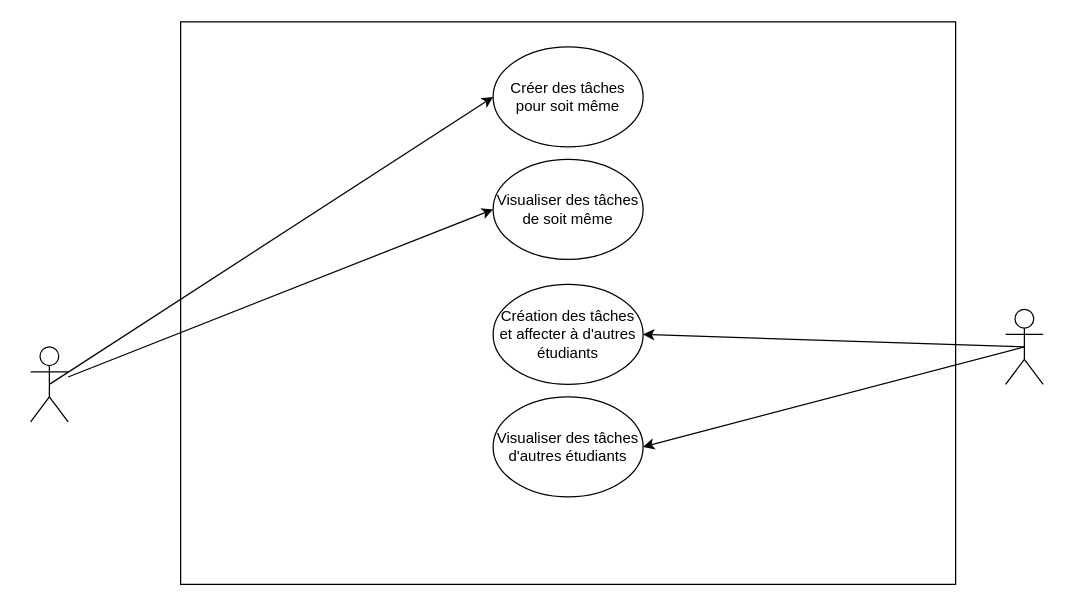
This 1066x606 diagram has some shape labels left out. The centre of each missing label's shape, as x and y in pixels:
Etudiant: [48,384]
Tuteur: [1023,346]
